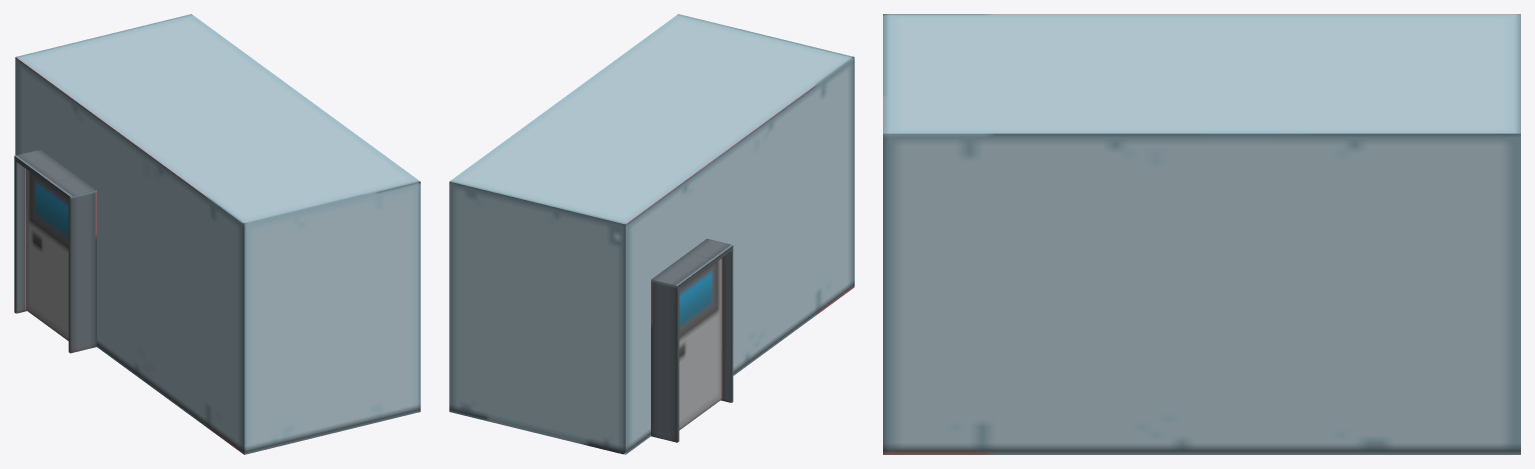
File: RooftopDoor.fbx
3 views of the same model, side by side, from view 1: azimuth 30°, elevation 25°; view 2: azimuth 150°, elevation 25°; view 3: azimuth 270°, elevation 25° (orthographic). The views are drawn at different scales.
Parts seen in each view (by area): view 1: DoorBuilding, DoorFrame, Door; view 2: DoorBuilding, DoorFrame, Door; view 3: DoorBuilding.
Part boxes in pixels (x1=…): DoorBuilding: x1=15, y1=14, x2=420, y2=454; DoorFrame: x1=14, y1=149, x2=96, y2=353; Door: x1=26, y1=169, x2=68, y2=340; DoorBuilding: x1=449, y1=14, x2=854, y2=454; DoorFrame: x1=651, y1=238, x2=733, y2=442; Door: x1=679, y1=258, x2=721, y2=430; DoorBuilding: x1=883, y1=14, x2=1520, y2=454.
Size of the model in its own units: 28.75 by 31.25 by 56.25.
1 material, 1 textured.
